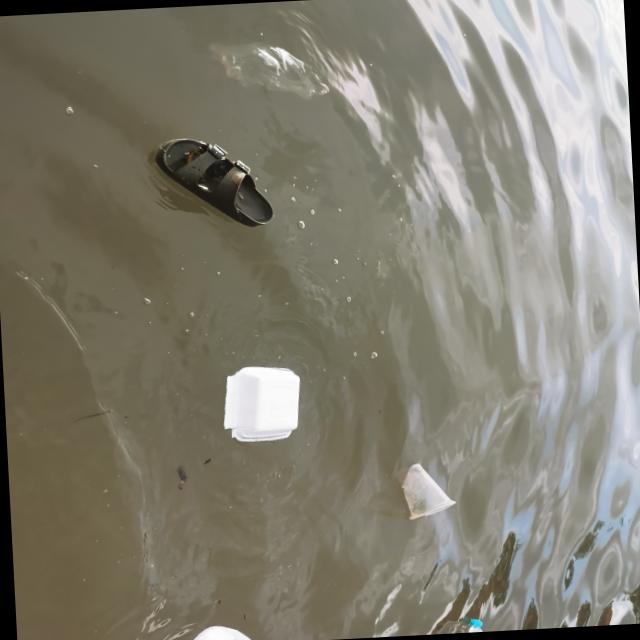foam: (219, 365, 304, 445), (180, 625, 255, 640)
